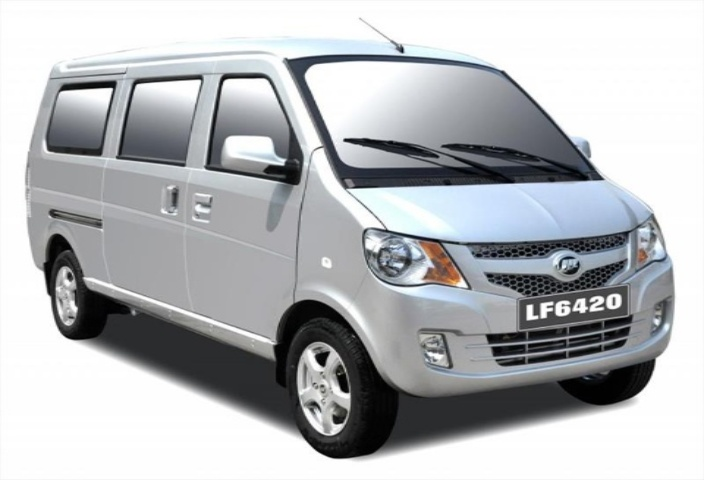van: (9, 47, 682, 454)
